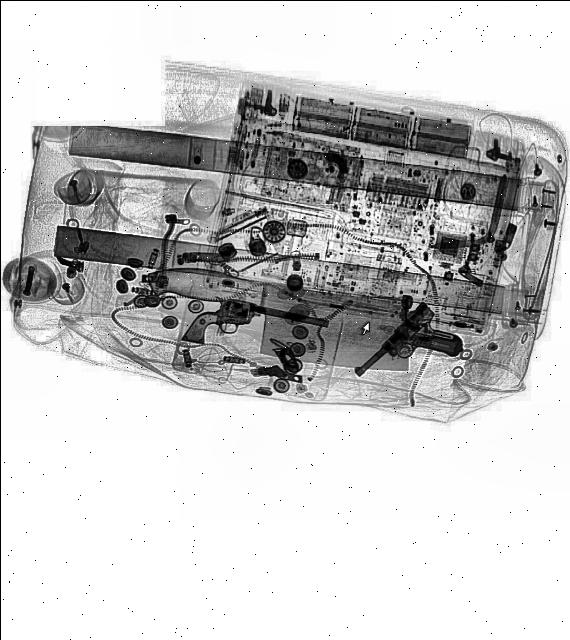Gun: (352, 298, 468, 414), (182, 288, 332, 364)
Knife: (142, 259, 414, 373)
